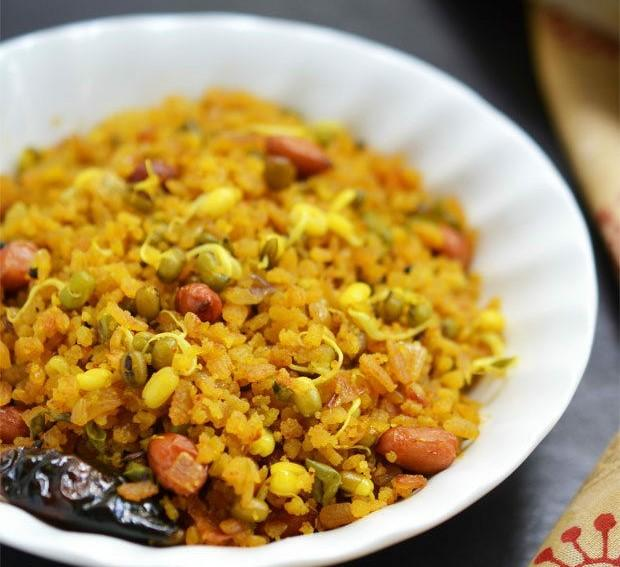Poha: (0, 86, 502, 536)
